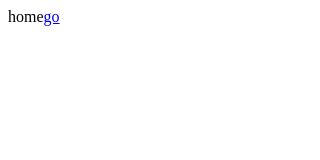
router › Link navigates without a reload and useRoute follows
The image size is (320, 160).
Expected: the text with test id "probe" reads "home", [8, 8, 44, 25]
Click the link "go". click: point(52, 16)
box: [44, 8, 60, 25]
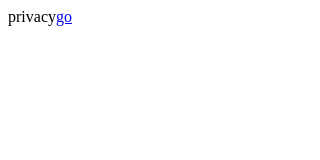
Expected: the text with test id "probe" reads "privacy", [8, 8, 56, 25]
